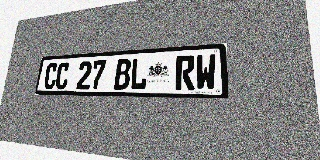2: (76, 61, 92, 89)
7: (89, 60, 106, 90)
B: (114, 59, 131, 90)
C: (55, 62, 70, 89), (43, 63, 58, 89)
L: (130, 58, 148, 90)
R: (175, 55, 195, 90)
W: (195, 54, 216, 90)
